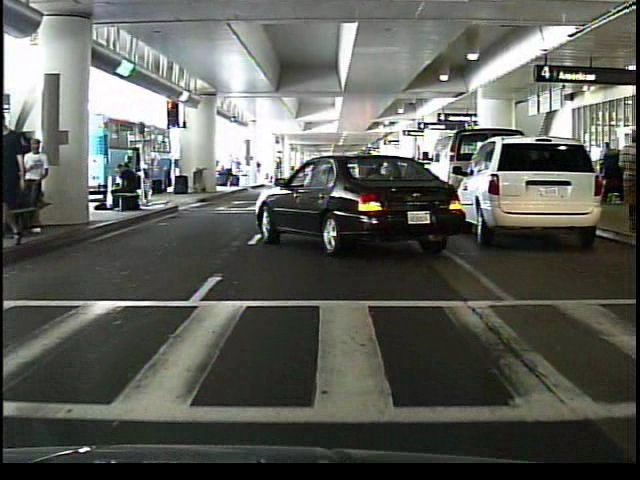person: (616, 131, 637, 232), (105, 161, 141, 214)
